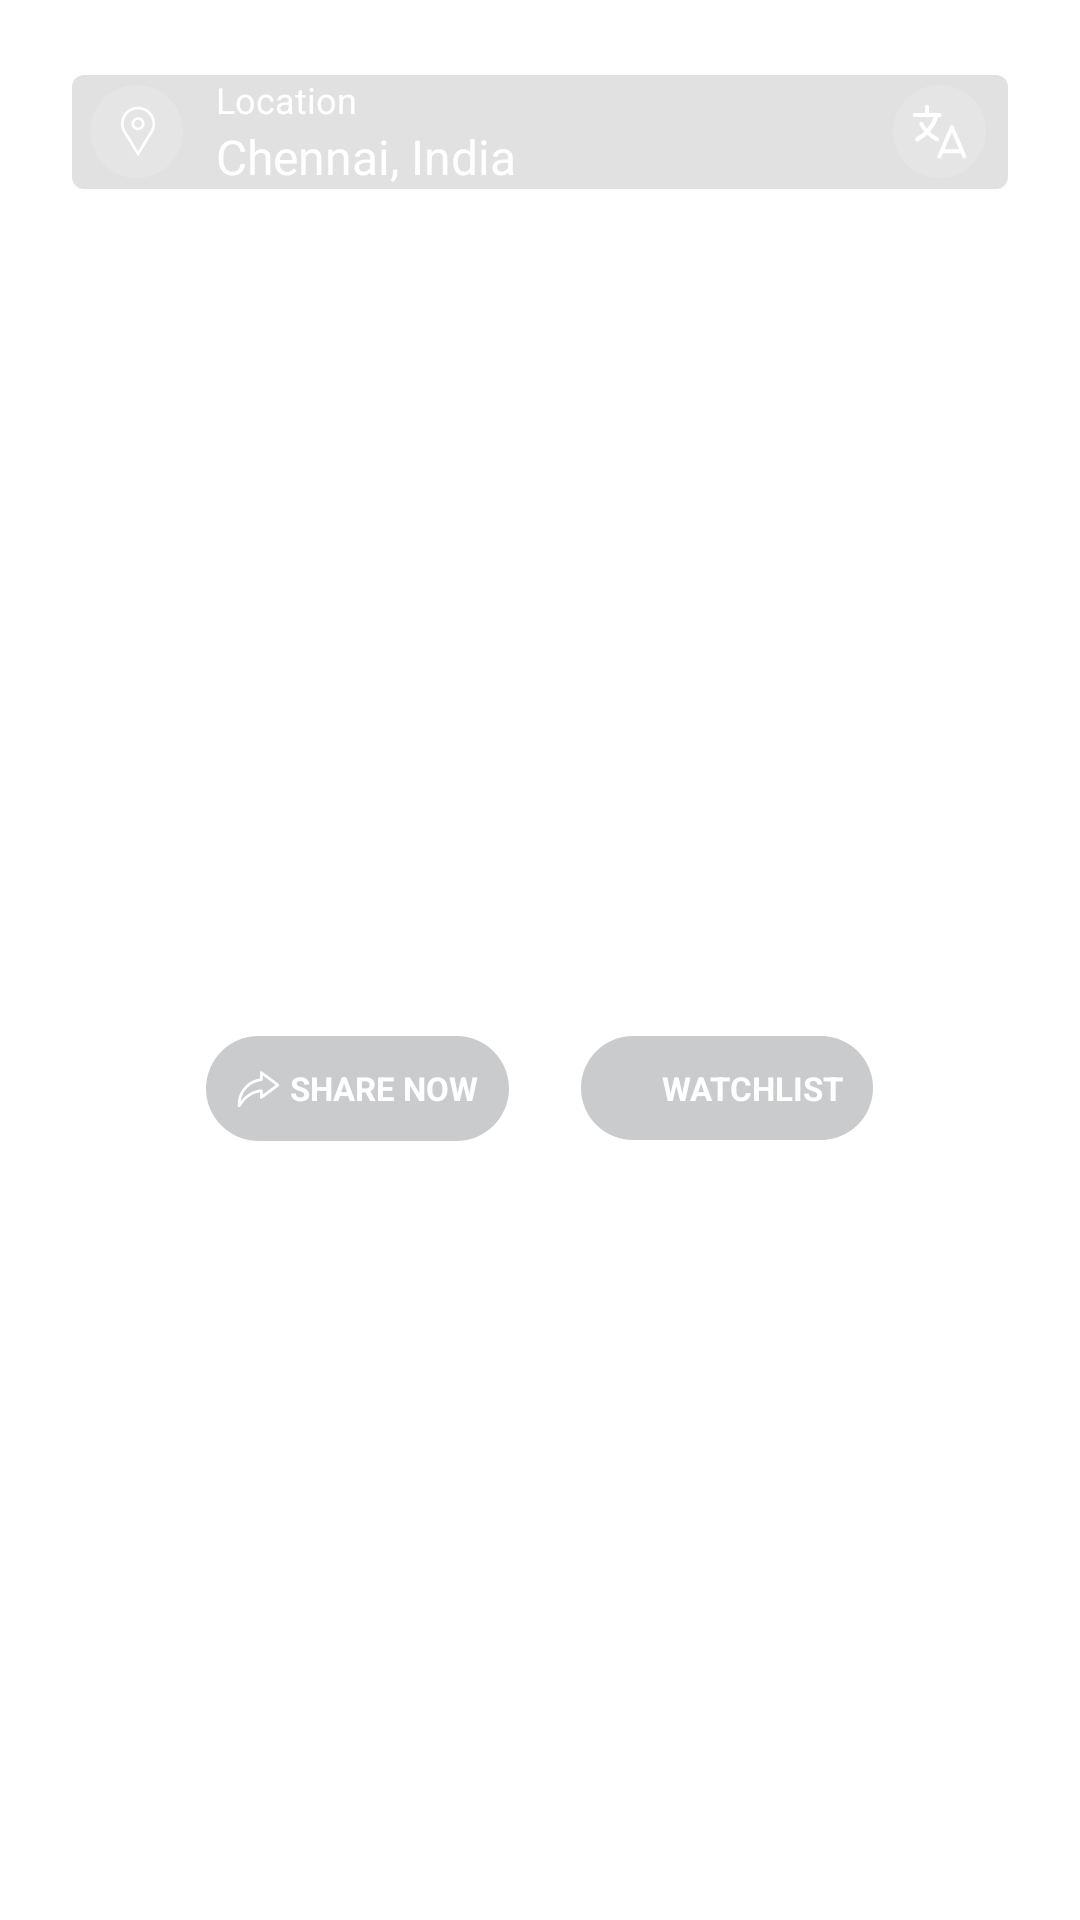

Where icons sit on this 1080 x 1920 app screen, as (x1, y1, x2, y2):
language home: (913, 105, 966, 158)
share home page: (238, 1071, 279, 1107)
